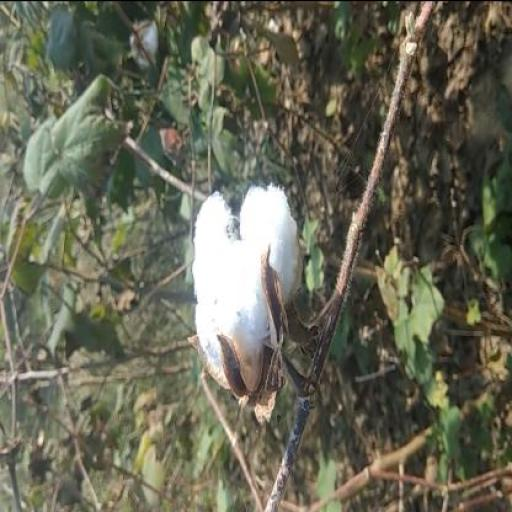cotton_ready: (176, 156, 358, 420)
